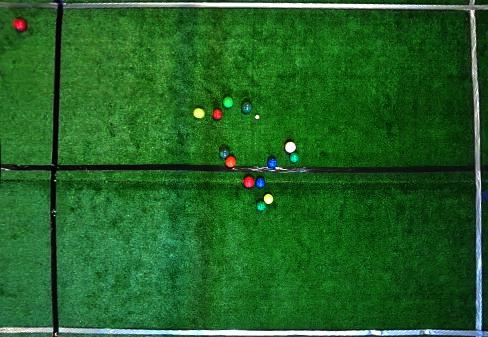blue: (255, 176, 266, 189), (267, 157, 278, 168)
green: (241, 101, 253, 114), (222, 96, 234, 109), (219, 147, 230, 159), (256, 201, 267, 212), (289, 152, 299, 163)
red: (13, 17, 27, 31), (243, 175, 254, 187), (225, 156, 236, 168), (285, 142, 297, 153), (212, 109, 222, 120)
vline: (1, 0, 65, 336), (467, 0, 487, 337)
white: (255, 115, 260, 119)
yellow: (193, 107, 205, 119), (263, 194, 273, 204)
